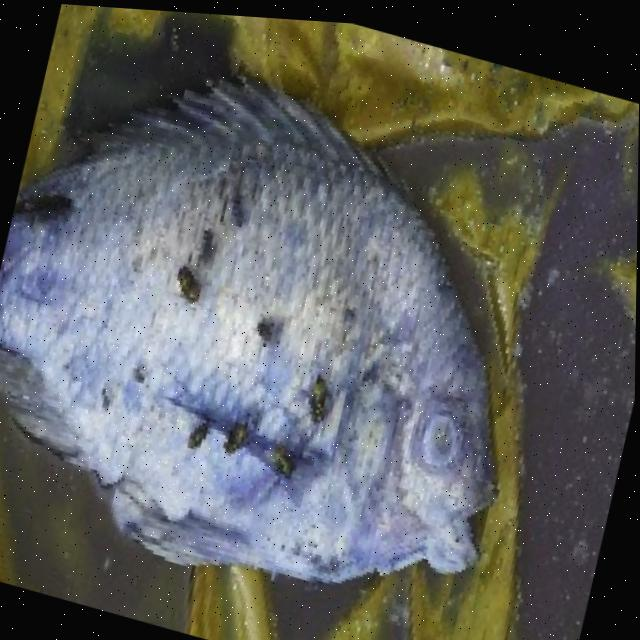Non-Fresh: (0, 35, 587, 628)
